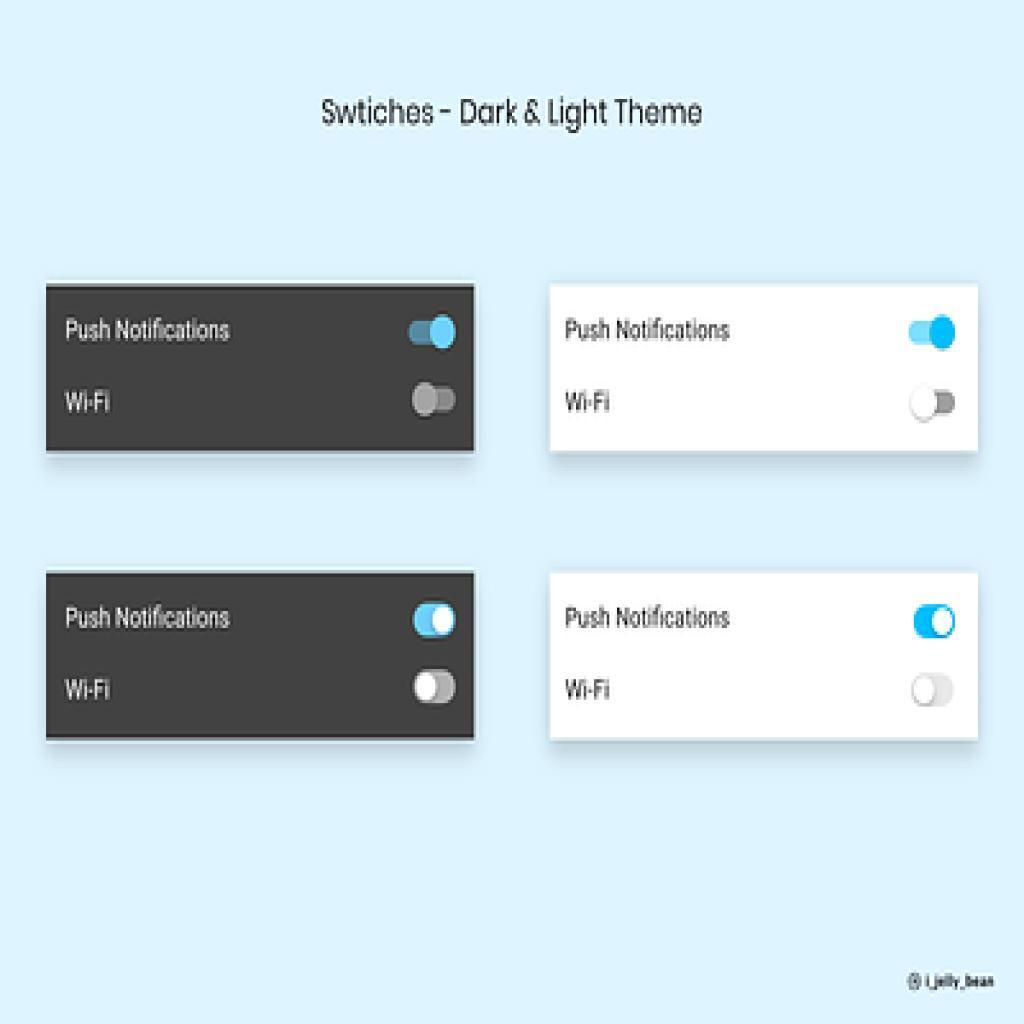label: (559, 600, 734, 634), (564, 319, 733, 348), (67, 317, 231, 346), (64, 604, 234, 631), (564, 675, 615, 706), (559, 390, 613, 415), (65, 676, 112, 702), (66, 389, 112, 415)
switch: (406, 315, 459, 354), (410, 380, 458, 423), (908, 313, 957, 355), (908, 385, 958, 426), (910, 675, 957, 710), (414, 671, 458, 706), (414, 603, 457, 637), (914, 607, 956, 641)
